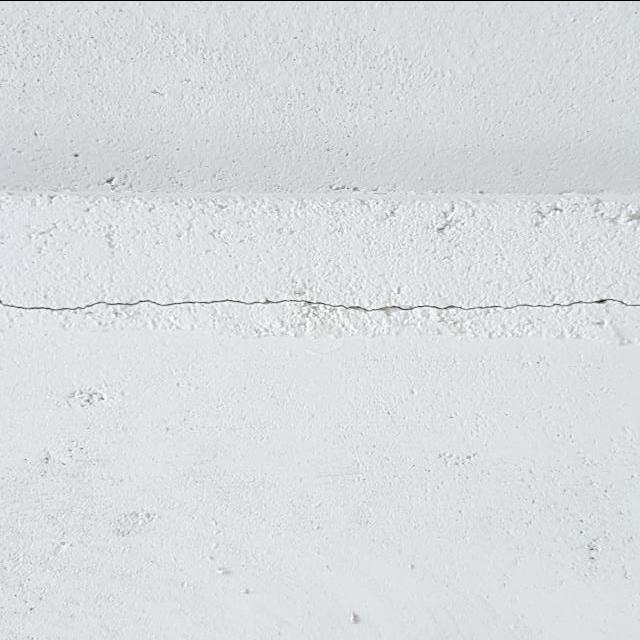SurfaceCrack: (0, 246, 639, 370)
